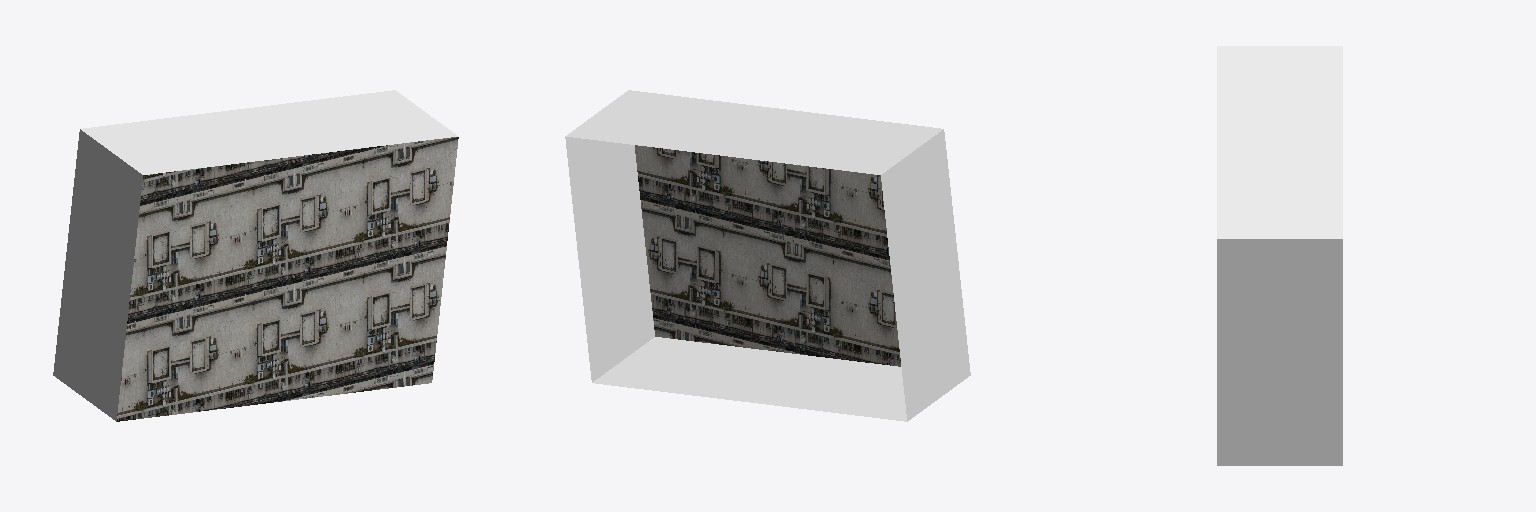
The picture shows the model from 3 angles: view 1: azimuth 30°, elevation 25°; view 2: azimuth 150°, elevation 25°; view 3: azimuth 270°, elevation 25°; orthographic projection.
Parts seen in each view (by area): view 1: Building; view 2: Building; view 3: Building.
Boxes of the visible parts, x1,y1,x2,y2 form: Building: [53, 90, 458, 421]; Building: [565, 90, 970, 421]; Building: [1217, 46, 1342, 465].
Size of the model in its own units: 65.41 by 50.84 by 21.
2 materials, 1 textured.